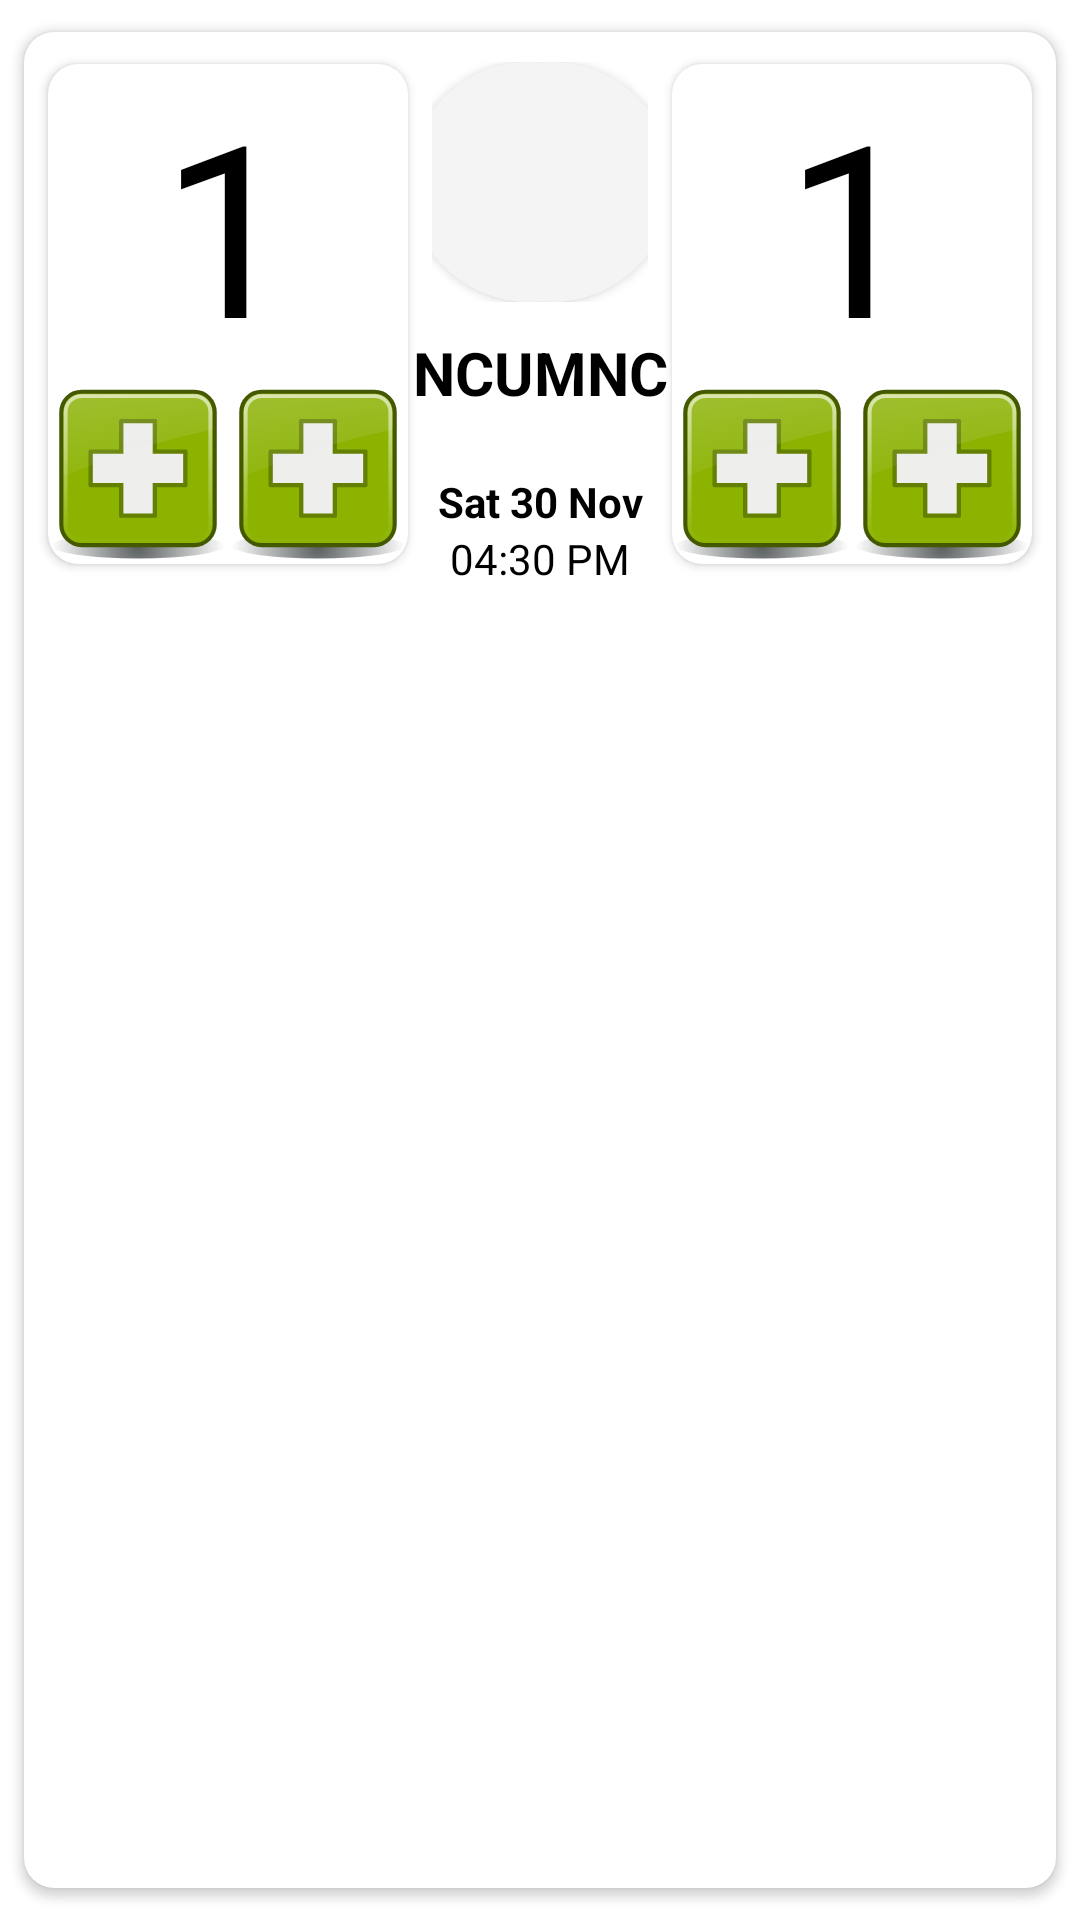

Icon bounding boxes for this 1080px×1920px phone screenshot, format [x1, y1, x2, y2]:
emblem plus: [59, 389, 217, 559], [239, 389, 408, 559], [672, 389, 841, 559], [863, 389, 1021, 559]
